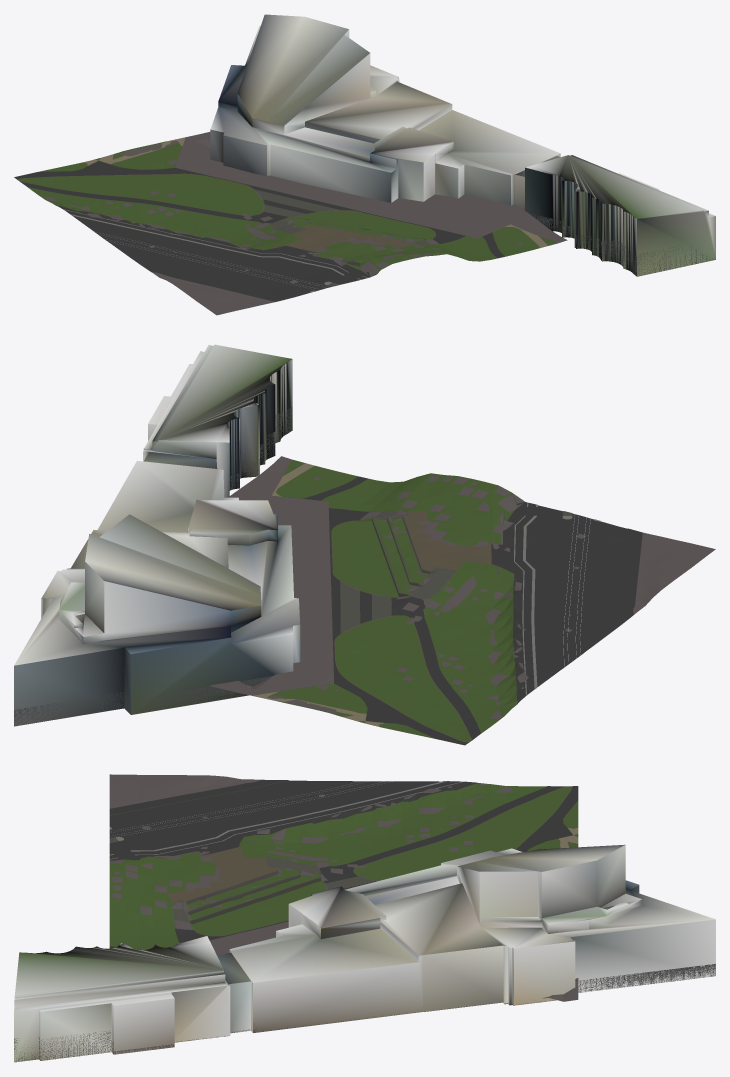
3 renders of one model, top to bottom at view 1: azimuth 30°, elevation 25°; view 2: azimuth 150°, elevation 25°; view 3: azimuth 270°, elevation 25°, orthographic. The views are drawn at different scales.
Visible parts, largest first — view 1: c_m09_m06; view 2: c_m09_m06; view 3: c_m09_m06.
Boxes of the visible parts, x1,y1,x2,y2 form: c_m09_m06: (14,14,715,315); c_m09_m06: (14,344,715,745); c_m09_m06: (14,774,715,1062).
Bounding box in the file's own units: 167 × 34.12 × 192.
